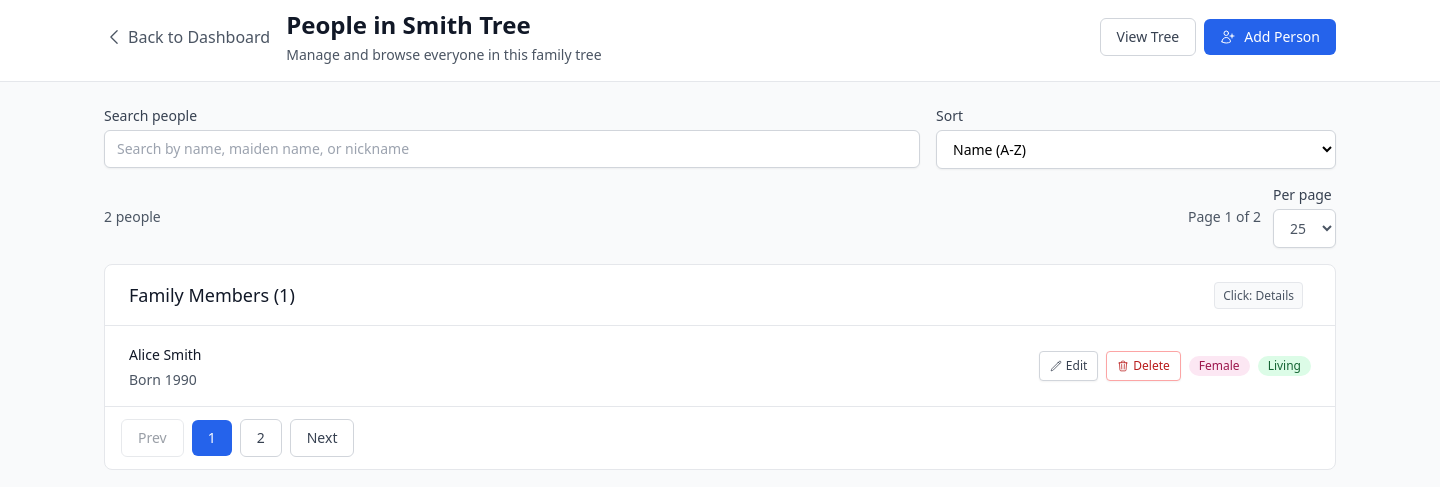
PeopleListPage › navigates to next page and requests new page data
Expected: the button "Alice Smith" is shown, [129, 345, 202, 365]
Select "10" in the dropdown labelled "Per page": x=1304, y=228 [1273, 209, 1336, 248]
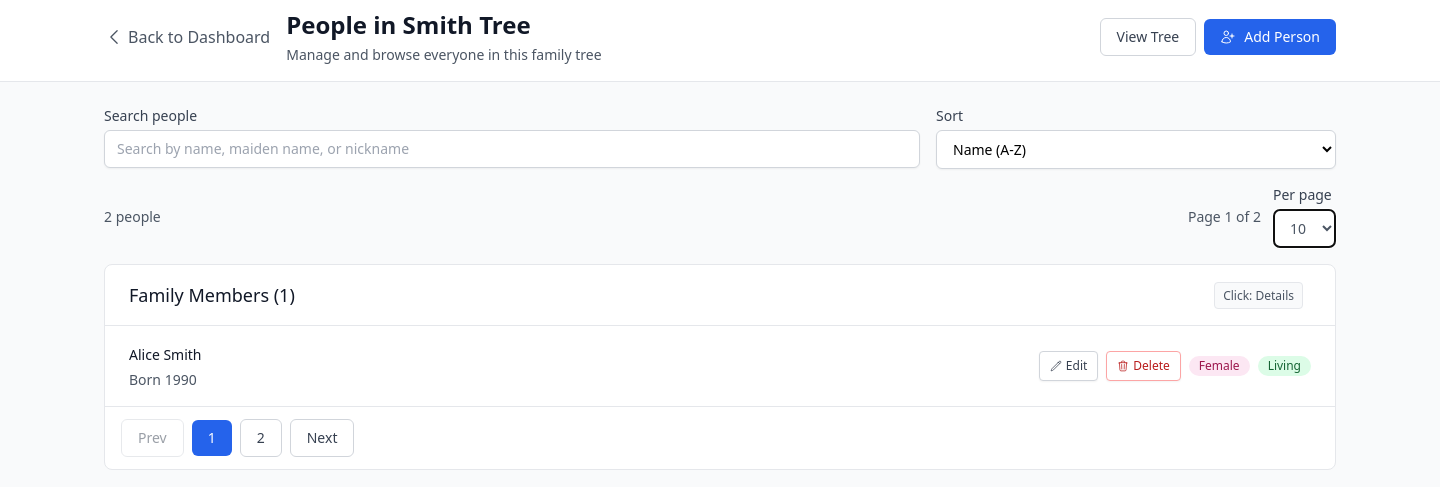
Click the button "Next": x=322, y=438 [290, 419, 354, 457]
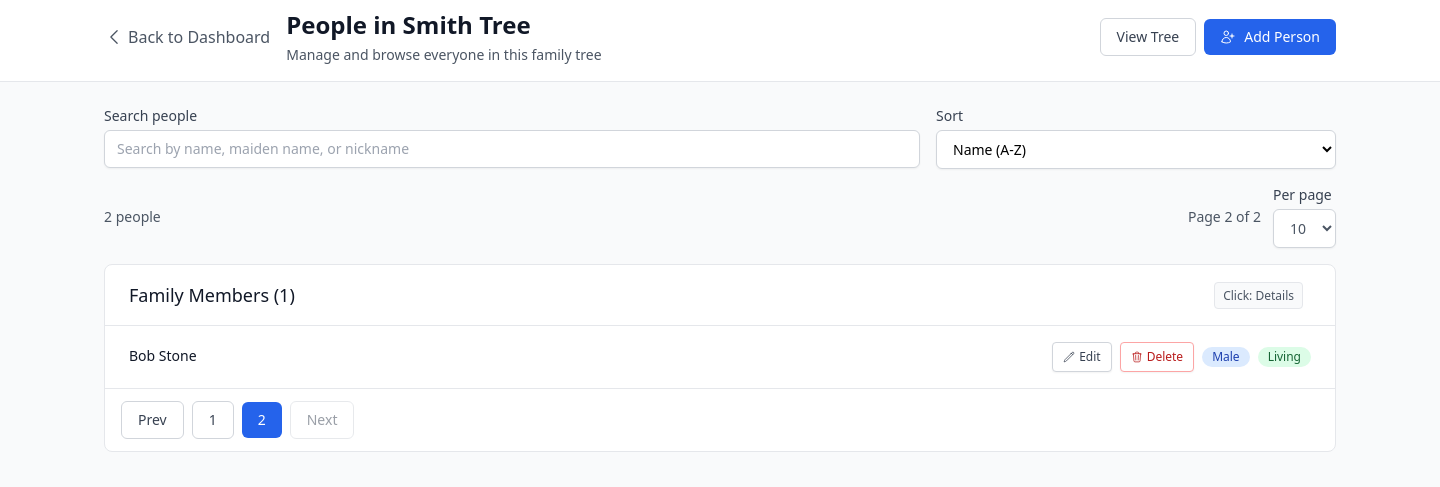
Expected: the text "Page 2 of 2" is shown, [1188, 206, 1261, 226]
